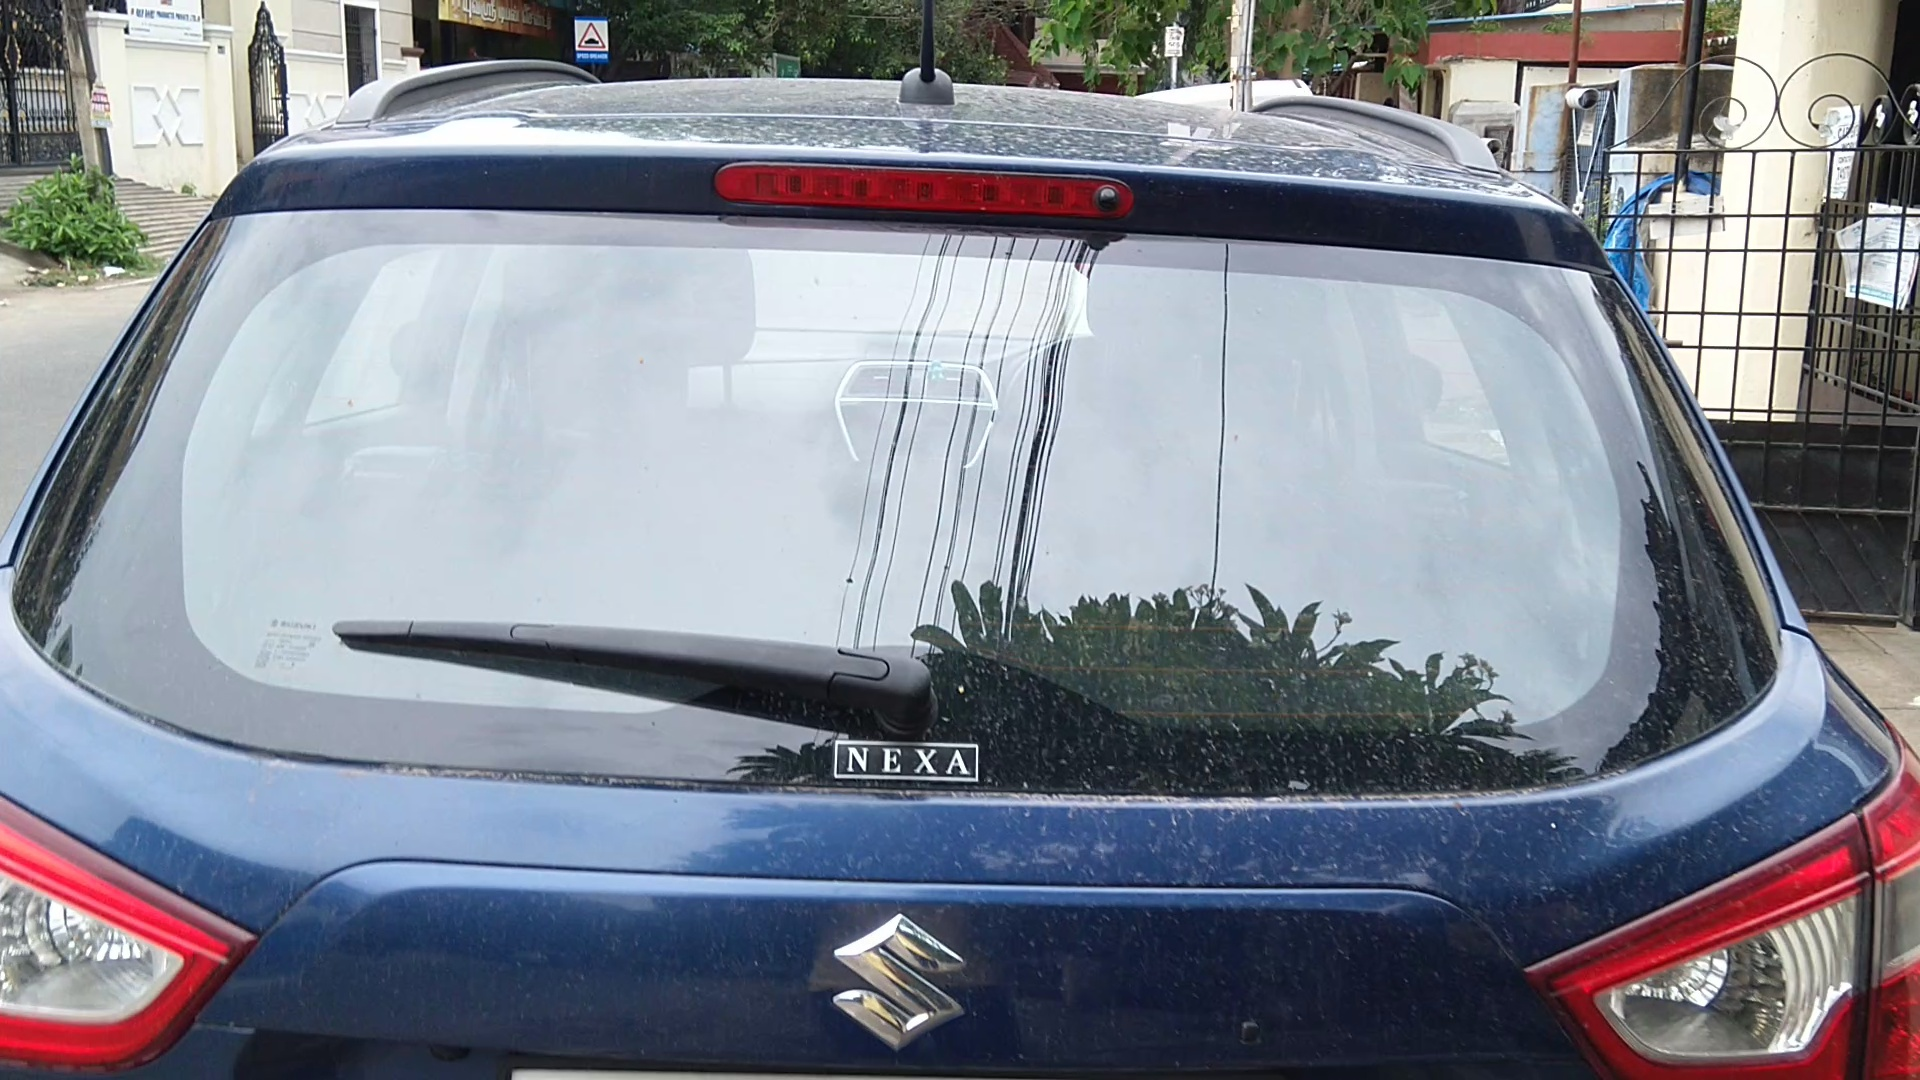rear_camera: (1080, 175, 1127, 222)
